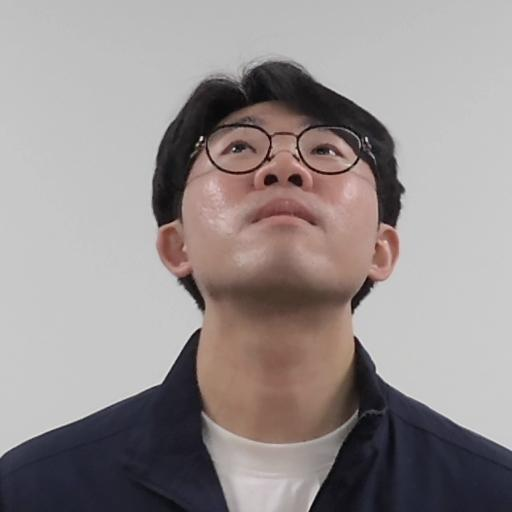no_glasses: (141, 60, 414, 332)
